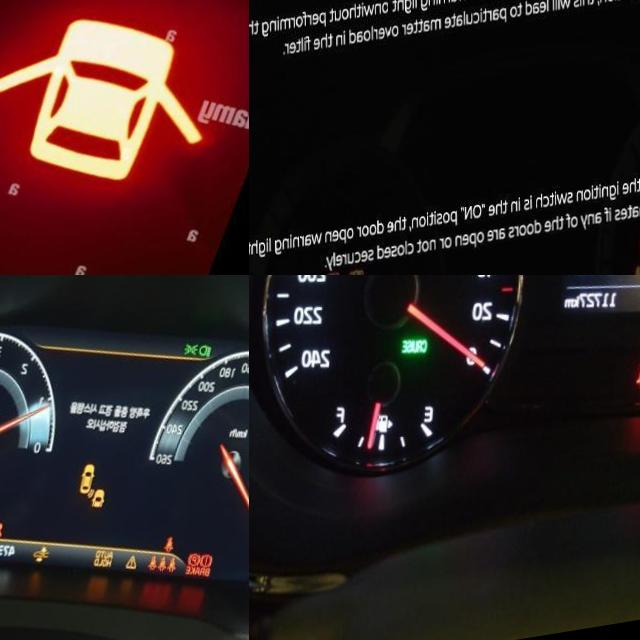Central Warning lamp: (125, 562, 139, 581)
Low beam: (198, 353, 214, 372)
SideLamp: (183, 351, 201, 372)
